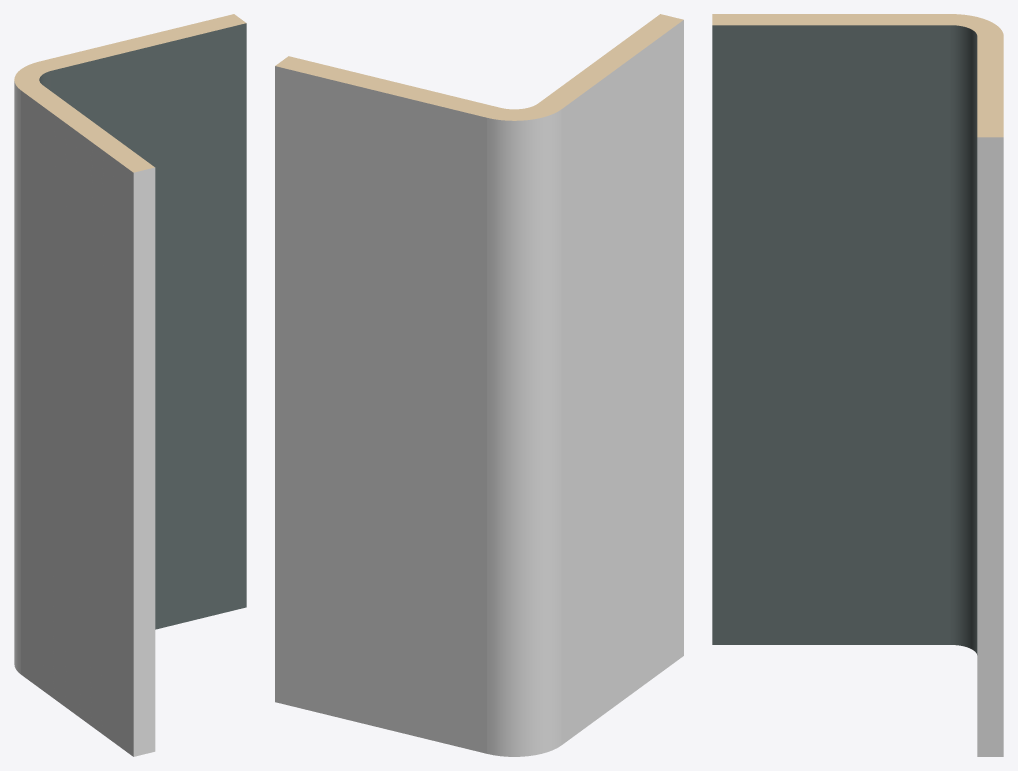
The model's file is wall_corner_rond.glb.
3 views of the same model, side by side, from view 1: azimuth 30°, elevation 25°; view 2: azimuth 150°, elevation 25°; view 3: azimuth 270°, elevation 25° (orthographic). The views are drawn at different scales.
Parts seen in each view (by area): view 1: _MeshInstance3D_637; view 2: _MeshInstance3D_637; view 3: _MeshInstance3D_637.
Part boxes in pixels (bbox=[...]): _MeshInstance3D_637: bbox=[14, 14, 246, 756]; _MeshInstance3D_637: bbox=[275, 14, 683, 756]; _MeshInstance3D_637: bbox=[712, 14, 1003, 756].
Size of the model in its own units: 5.5 by 12.9 by 5.5.
